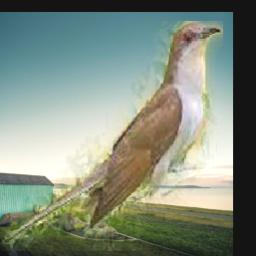Cuckoo: (0, 22, 222, 252)
